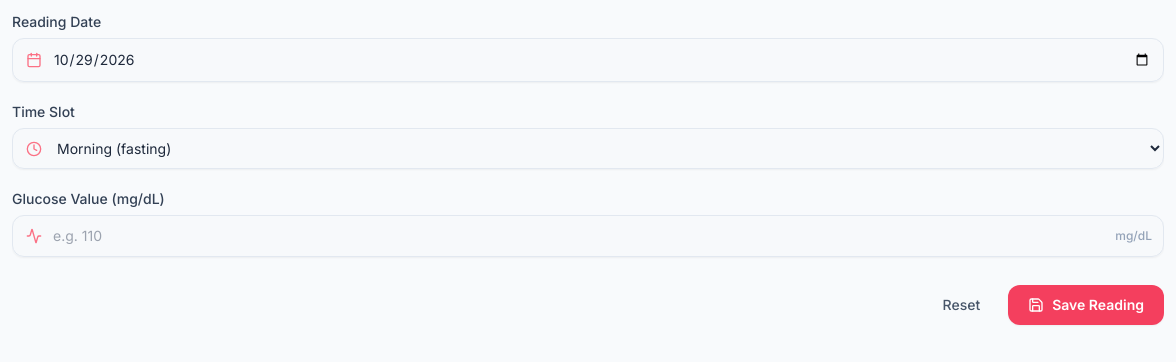
GlucoseReadingForm Component Tests › Displays error when glucose value is empty upon submission
Note: Click submit
Click the button "Save Reading": (1086, 305) [1008,285,1164,325]
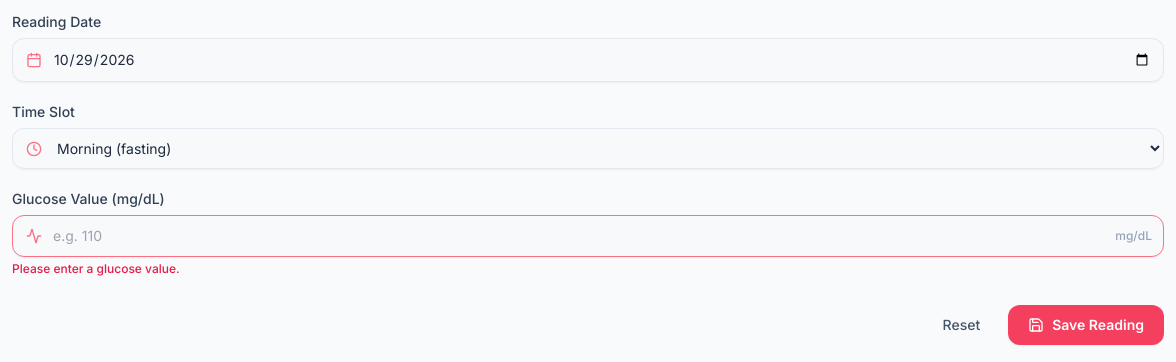
Expected: the text "Please enter a glucose value." is shown, [12,261,180,276]
